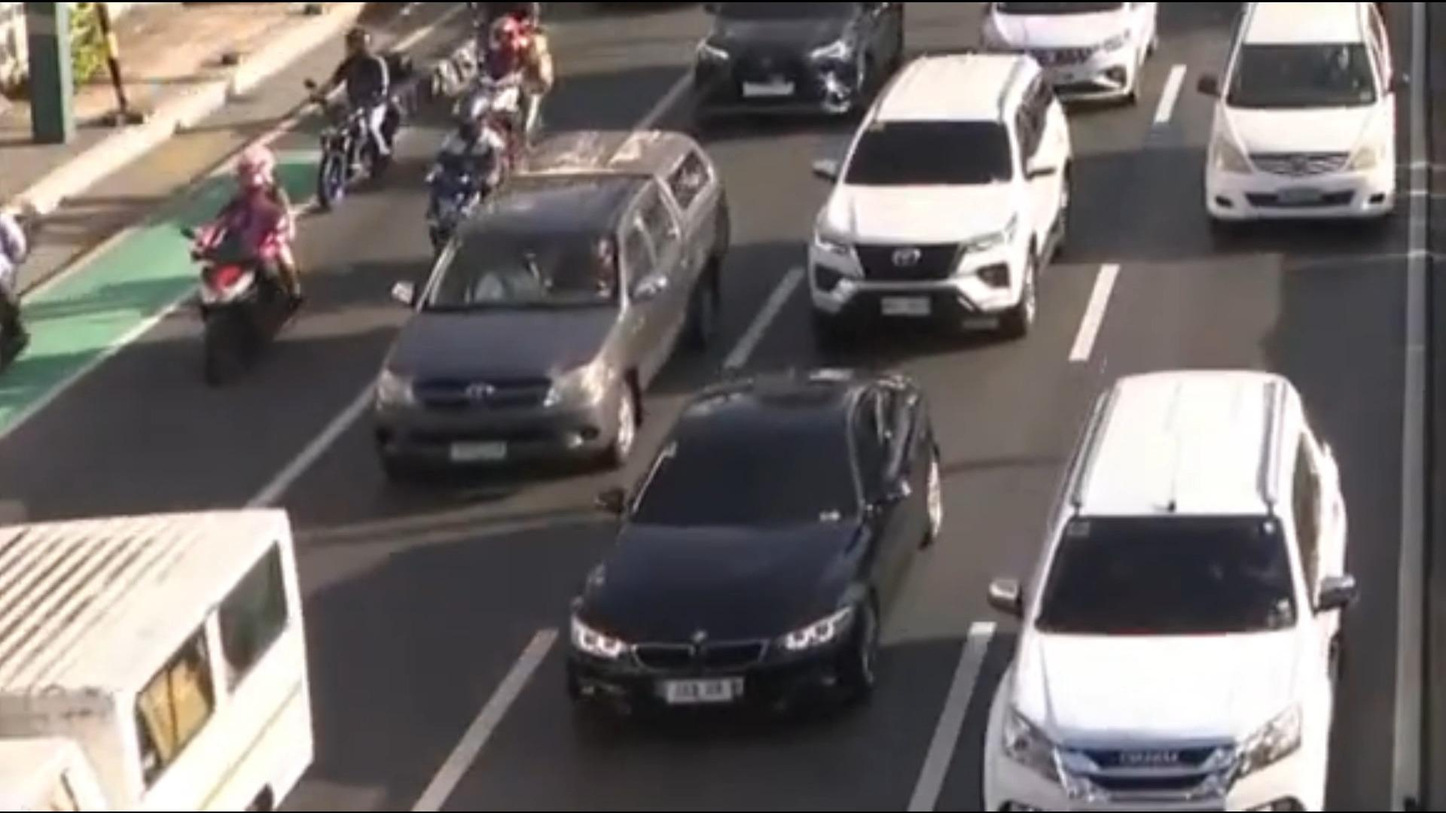Motorcycle: (164, 119, 322, 378), (315, 29, 416, 217), (449, 14, 571, 161), (420, 104, 489, 251)
Multicab: (0, 486, 341, 813)
SUV: (958, 347, 1431, 813), (310, 108, 767, 511), (791, 50, 1106, 353), (1185, 0, 1446, 249)
Sedan: (556, 356, 962, 739)
